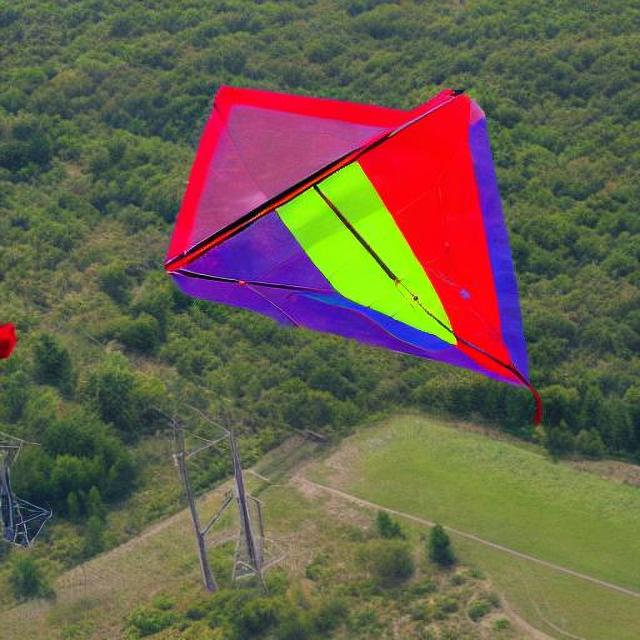floating object: (172, 84, 529, 388)
